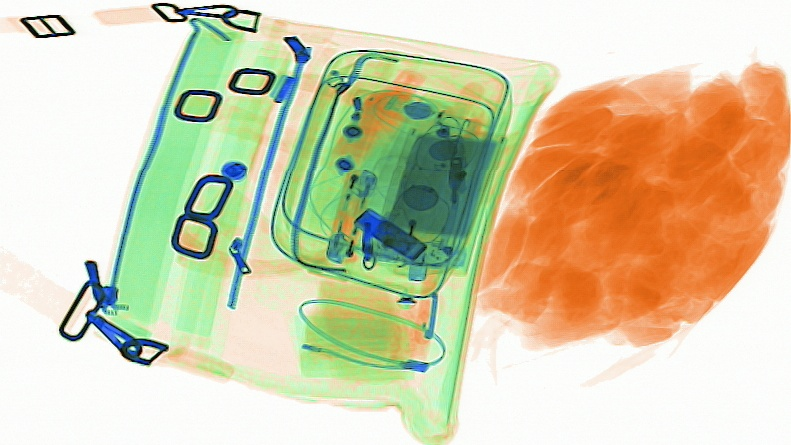lighter: (324, 165, 380, 264), (398, 196, 440, 284)
